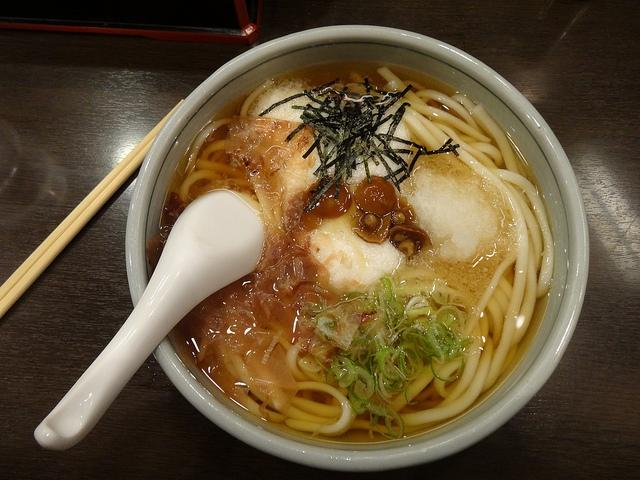mushroom: (306, 176, 352, 218), (352, 176, 397, 216), (350, 208, 392, 244), (390, 224, 432, 260), (391, 196, 416, 229)
